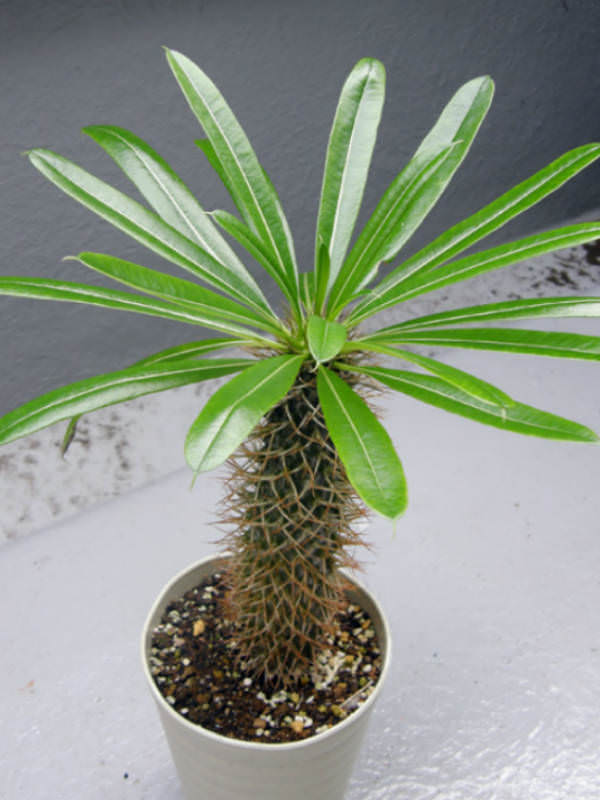Pachypodium lamerei Drake: (153, 155, 454, 701)
